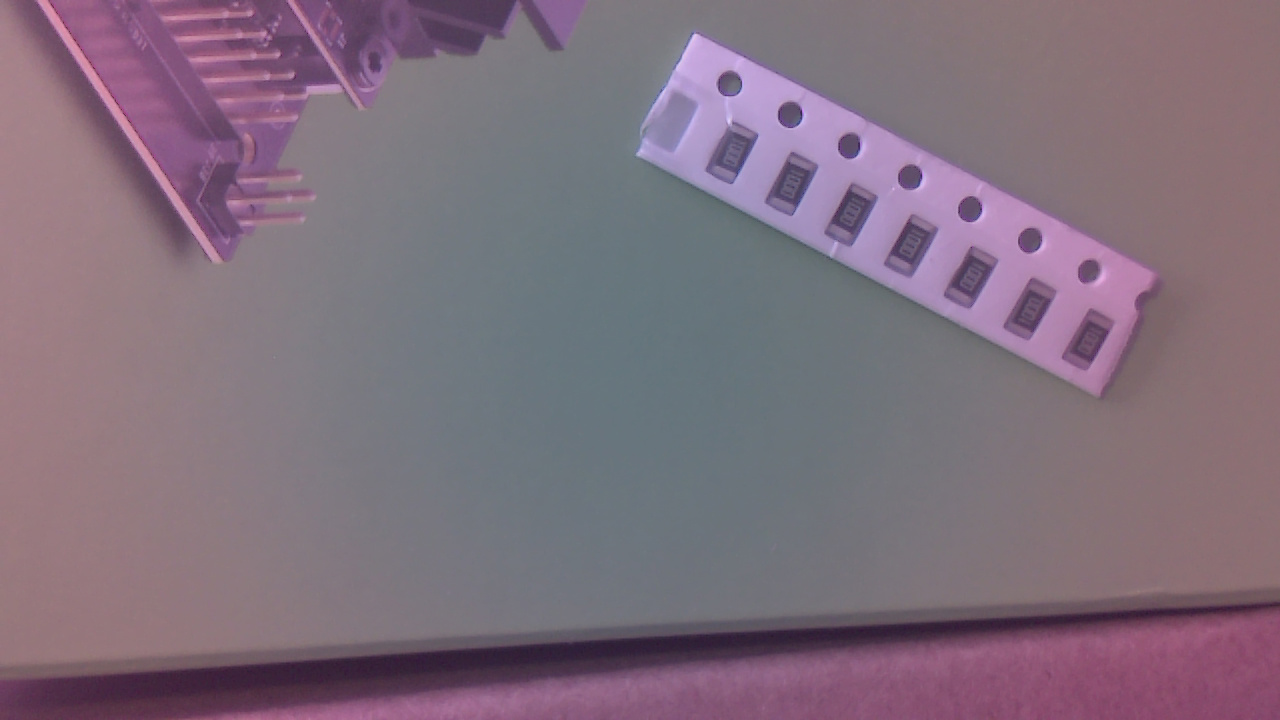Resistor: (1069, 309, 1127, 375), (1010, 279, 1067, 345), (708, 125, 766, 189), (951, 250, 1009, 314), (827, 186, 884, 251), (769, 156, 822, 221), (888, 223, 944, 284)
